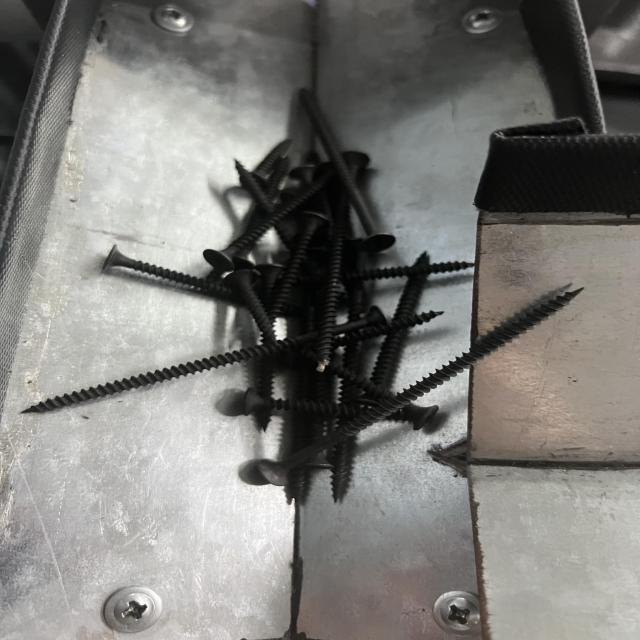screw: (262, 286, 580, 501)
